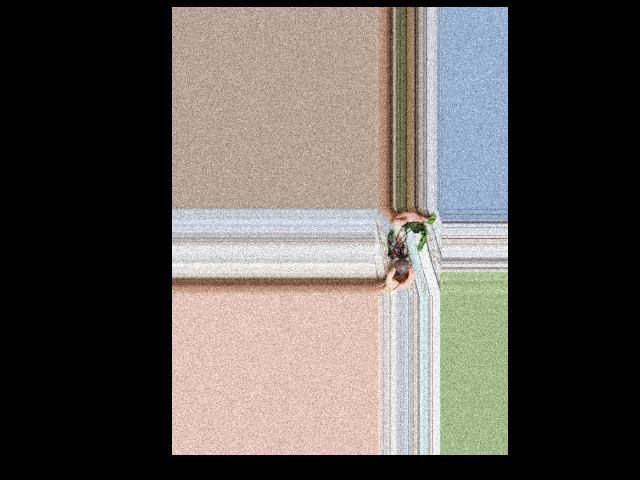beet: (388, 213, 436, 290)
